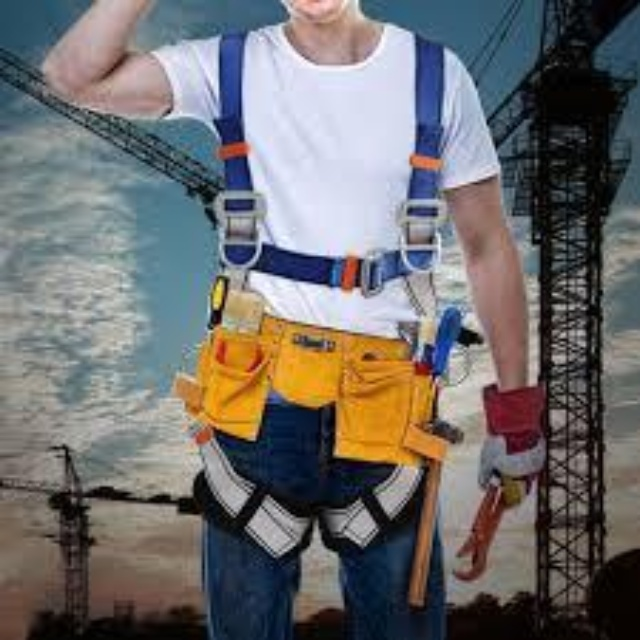Arnes_seguridad: (181, 21, 467, 549)
